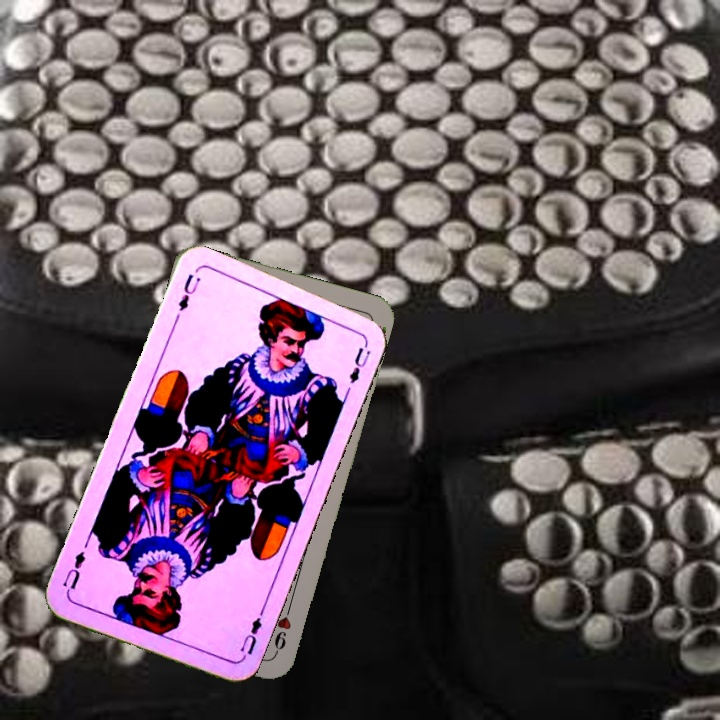EU: (235, 608, 266, 665), (174, 269, 203, 314)
H9: (270, 598, 295, 656)
